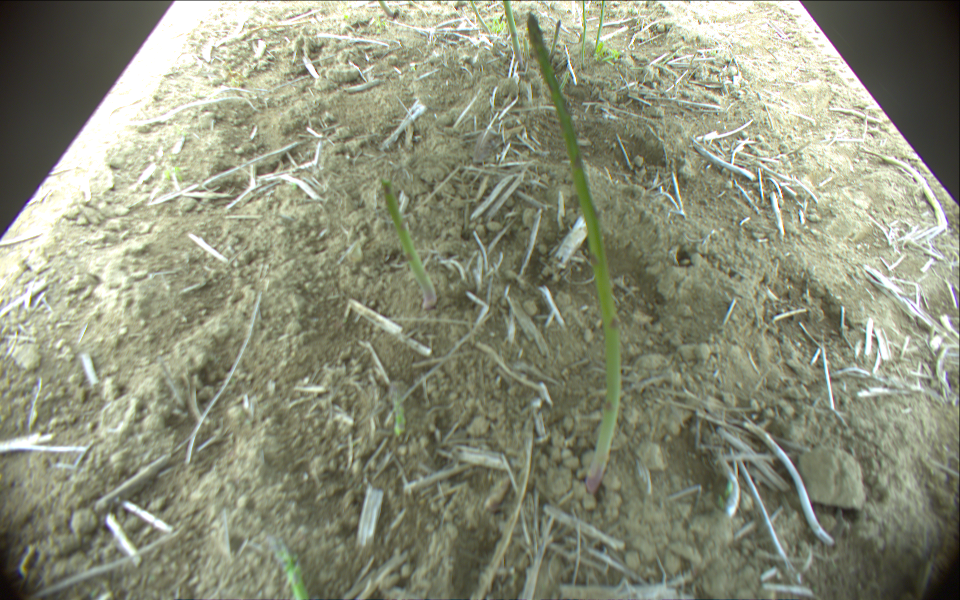aspa: (524, 12, 620, 493), (381, 179, 437, 308), (272, 540, 310, 600), (502, 1, 523, 68), (471, 1, 494, 39), (391, 387, 405, 438), (548, 18, 562, 63), (594, 1, 604, 63), (578, 1, 587, 69), (378, 1, 398, 18)
